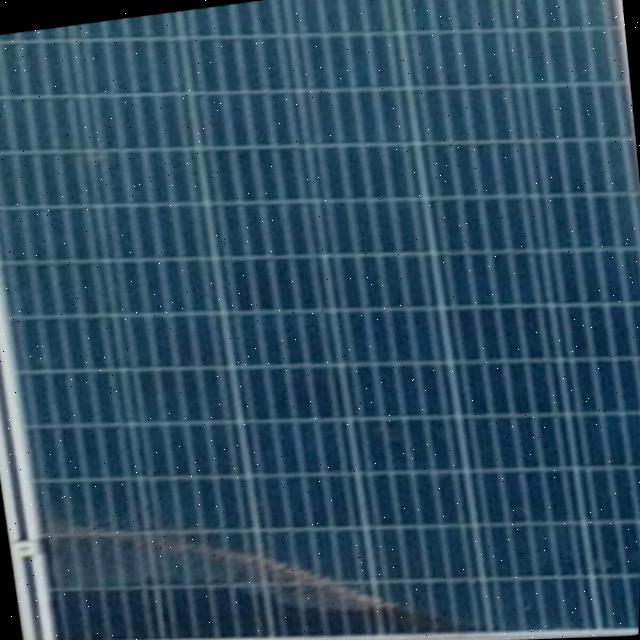Surface Contaminant: (33, 433, 502, 640)
